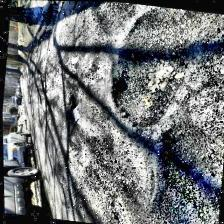pothole: (107, 5, 189, 128)
